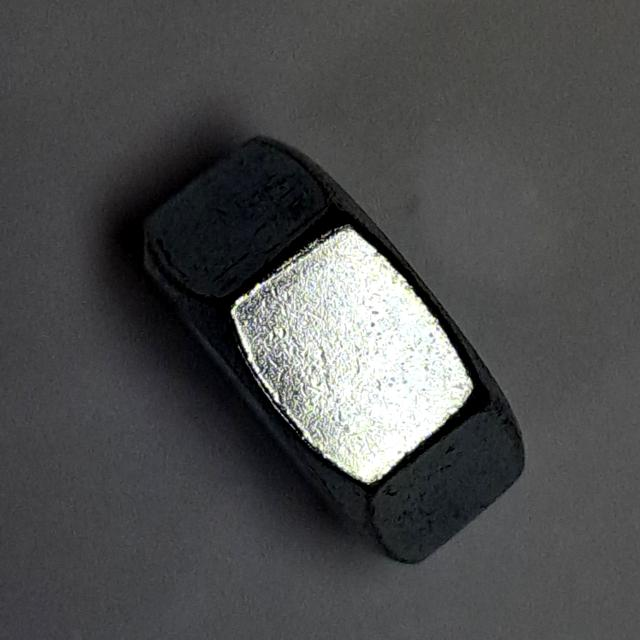Side_Excellent: (130, 117, 555, 576)
